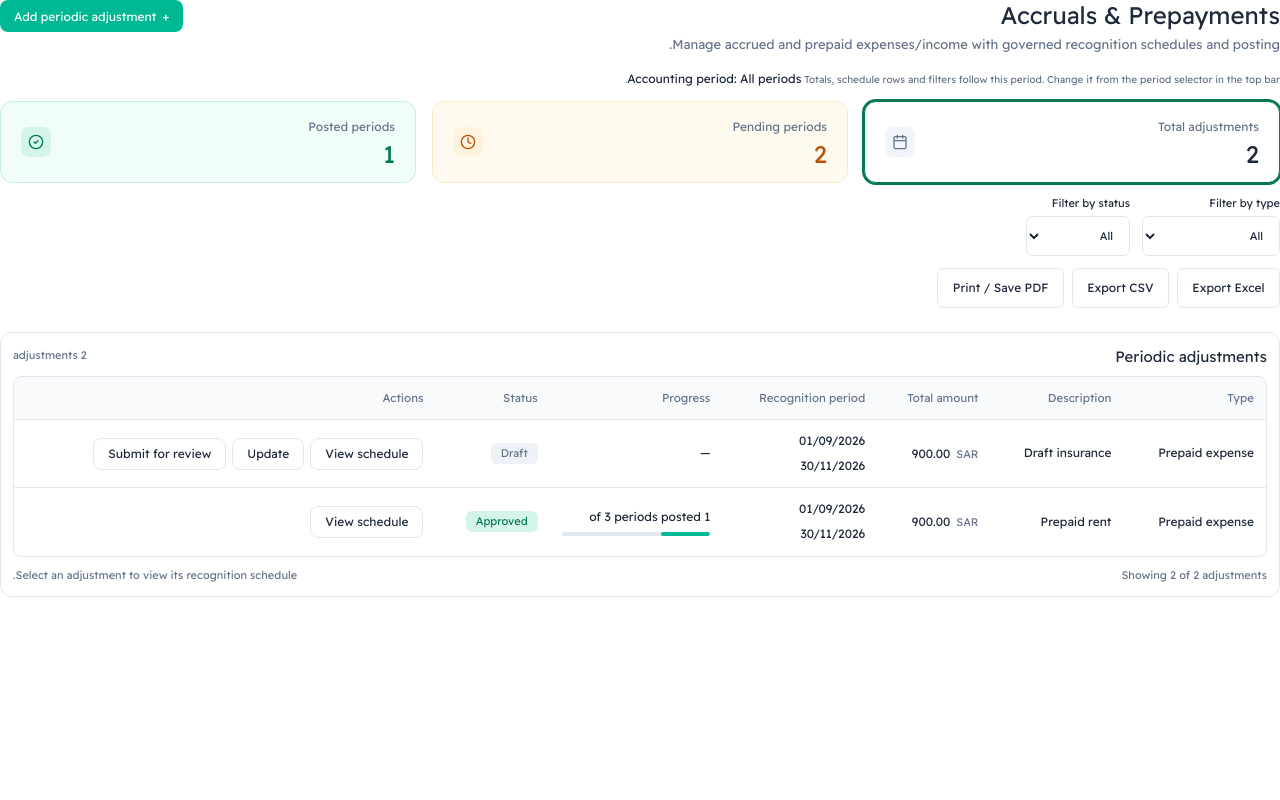
Scenario: Accruals & Prepayments workspace › shows KPI counts from the loaded data and the empty state when nothing exists
The width and height of the screenshot is (1280, 800).
Click the button "View schedule" in the row of "Prepaid rent" at (367, 522), box [310,506,424,538]
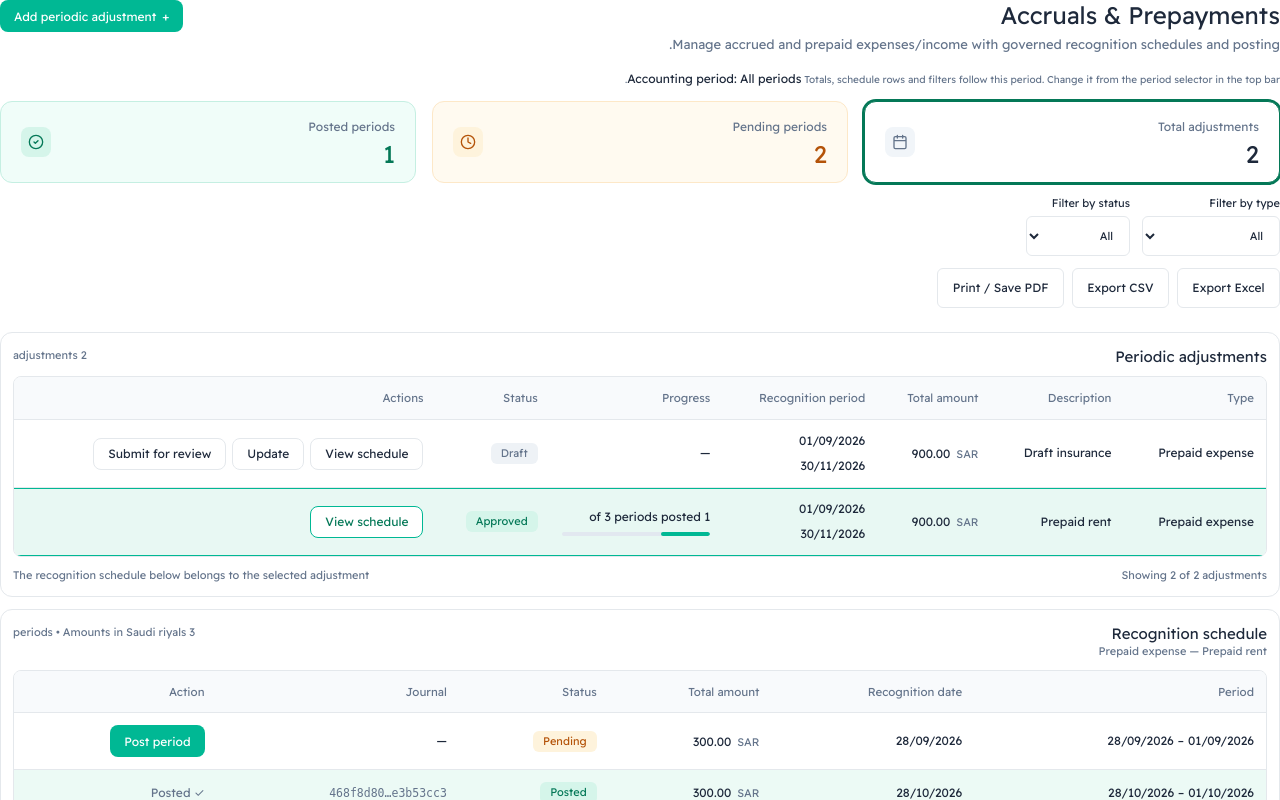
Expected: the heading "Recognition schedule" is shown, [1098,624,1267,643]
